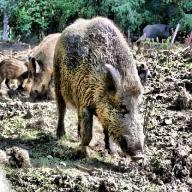boar: (57, 2, 156, 174)
